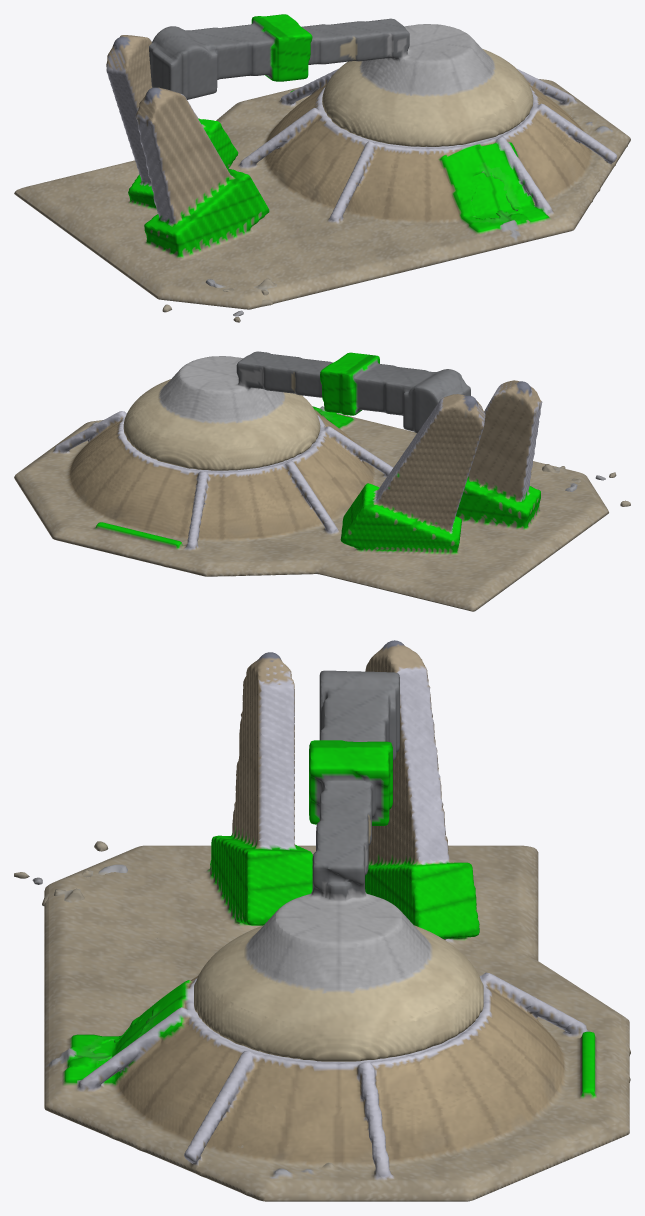
The model's file is firestorm-generator.glb.
3 renders of one model, top to bottom at view 1: azimuth 30°, elevation 25°; view 2: azimuth 150°, elevation 25°; view 3: azimuth 270°, elevation 25°, orthographic. The views are drawn at different scales.
Parts seen in each view (by area): view 1: firestorm-generator, arm-dome, firestorm-generator-damaged; view 2: firestorm-generator, arm-dome, firestorm-generator-damaged; view 3: firestorm-generator, arm-dome, firestorm-generator-damaged.
Boxes of the visible parts, x1,y1,x2,y2 form: firestorm-generator: (14, 35, 630, 309); arm-dome: (149, 14, 533, 146); firestorm-generator-damaged: (144, 91, 619, 322); firestorm-generator: (14, 380, 608, 611); arm-dome: (123, 351, 470, 470); firestorm-generator-damaged: (72, 406, 630, 506); firestorm-generator: (44, 640, 630, 1201); arm-dome: (194, 670, 483, 1061); firestorm-generator-damaged: (14, 841, 422, 1183).
Bounding box in the file's own units: 2.83 × 0.9249 × 2.07.
